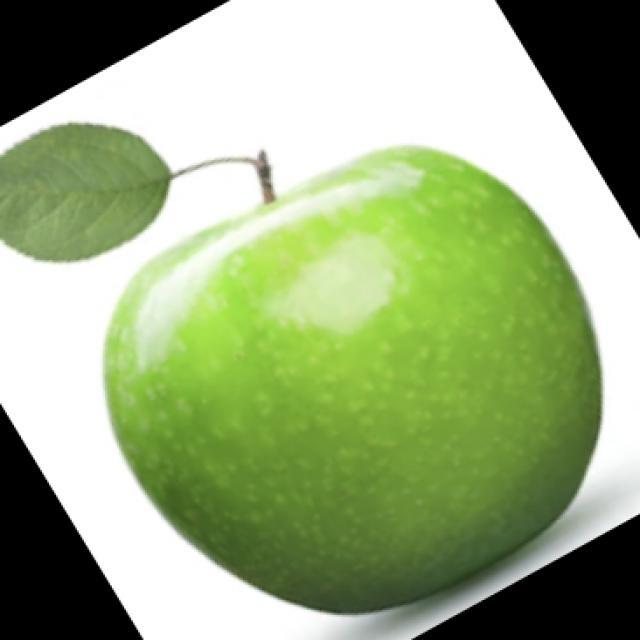Fresh Apple: (130, 143, 607, 607)
